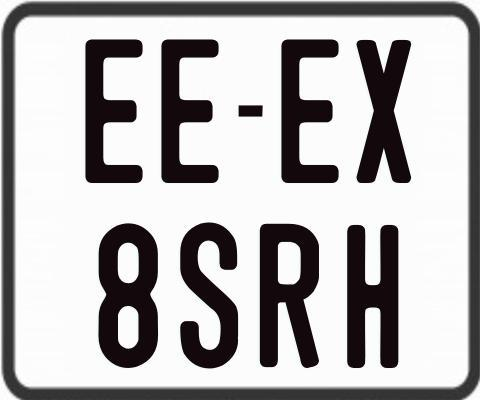8: (96, 220, 157, 369)
E: (85, 36, 148, 185), (279, 39, 342, 183), (161, 37, 222, 182)
H: (347, 224, 402, 367)
R: (258, 222, 319, 368)
S: (180, 220, 244, 372)
X: (354, 40, 410, 184)
